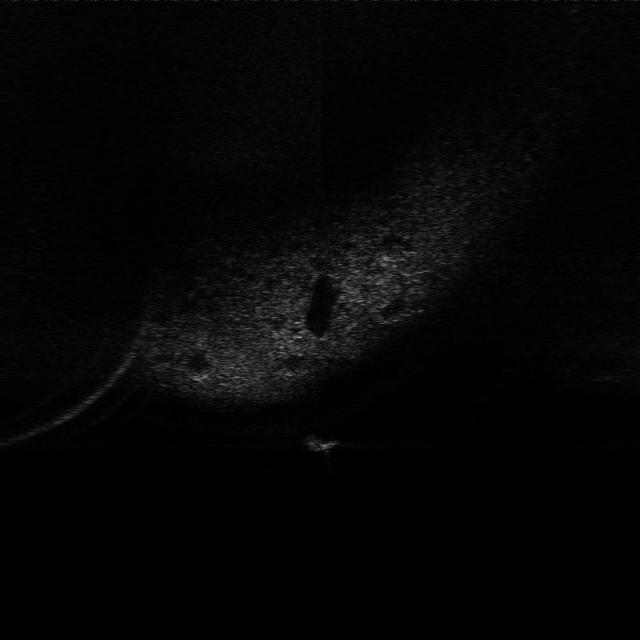cube: (300, 428, 344, 455)
